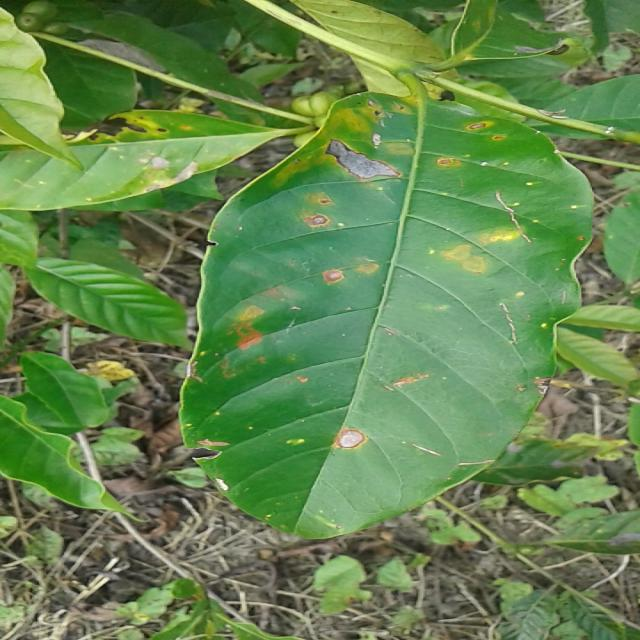Enfermedad-Roya: (178, 95, 595, 542)
